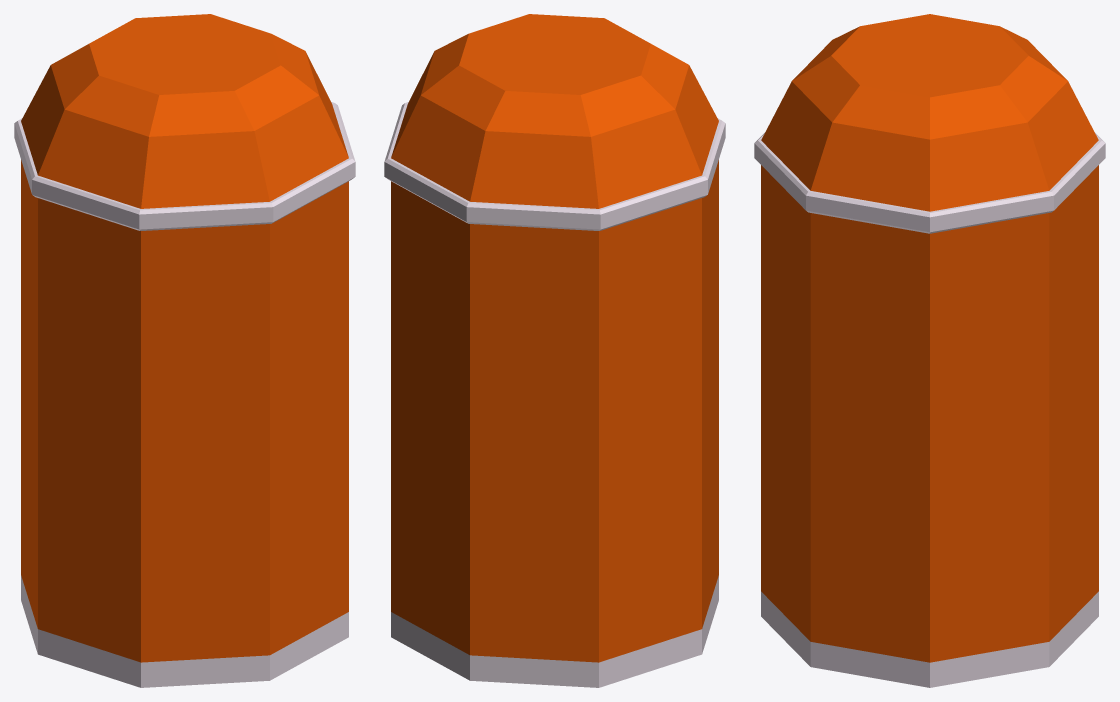
The model's file is Elevator.fbx.
3 renders of one model, left to right at view 1: azimuth 30°, elevation 25°; view 2: azimuth 150°, elevation 25°; view 3: azimuth 270°, elevation 25°, orthographic.
Visible parts, largest first — view 1: 001; view 2: 001; view 3: 001.
Boxes of the visible parts, x1=… form: 001: x1=14, y1=14, x2=355, y2=687; 001: x1=384, y1=14, x2=725, y2=687; 001: x1=754, y1=14, x2=1105, y2=687.
Size of the model in its own units: 2422 by 4269 by 2422.
